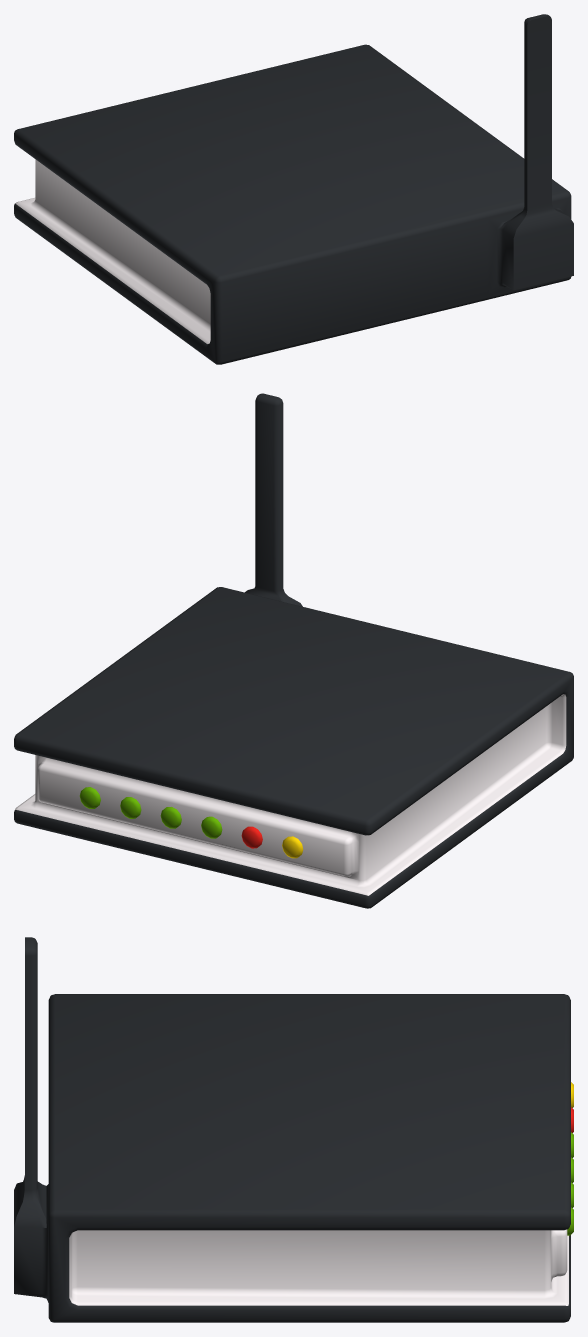
The model's file is Modem.fbx.
3 views of the same model, one above another, from view 1: azimuth 30°, elevation 25°; view 2: azimuth 150°, elevation 25°; view 3: azimuth 270°, elevation 25° (orthographic). The views are drawn at different scales.
Visible parts, largest first — view 1: wifi_modem; view 2: wifi_modem; view 3: wifi_modem.
Part boxes in pixels (left/top/right/bottom): wifi_modem: left=14, top=14, right=573, bottom=364; wifi_modem: left=14, top=393, right=573, bottom=908; wifi_modem: left=14, top=937, right=573, bottom=1322.
Size of the model in its own units: 118 by 88.76 by 126.
